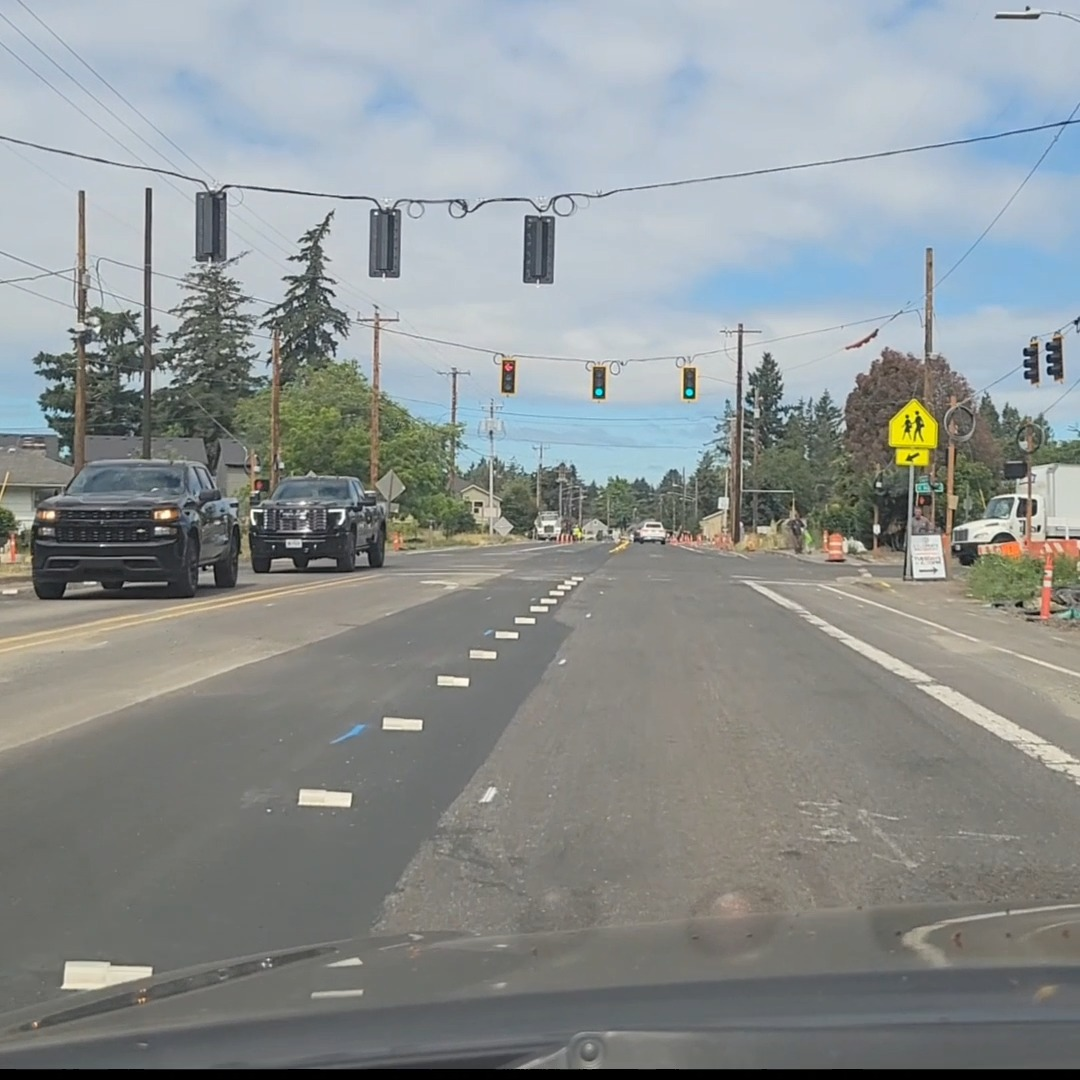car: (30, 457, 243, 598), (248, 474, 389, 572), (631, 521, 668, 544)
delineator: (1039, 554, 1054, 620), (7, 533, 17, 563)
